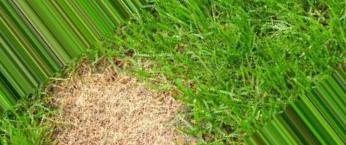patch: (59, 77, 172, 145)
